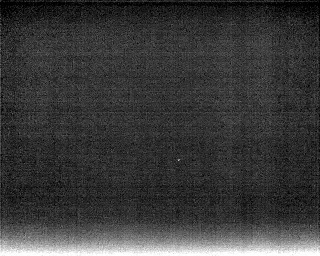BIRD: (175, 155, 182, 164)
